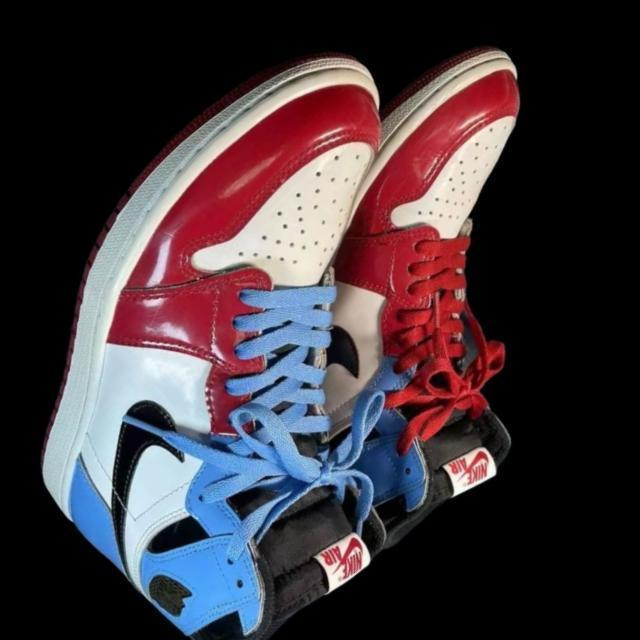nike original jordan 1: (0, 0, 622, 640), (152, 17, 640, 573)
